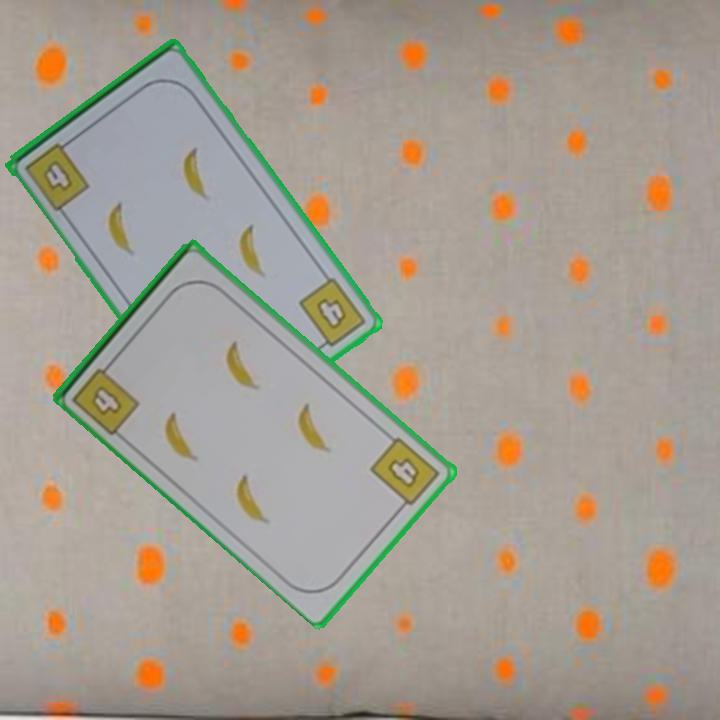4b: (366, 433, 443, 515), (68, 355, 143, 438), (295, 273, 369, 354), (20, 135, 93, 214)
